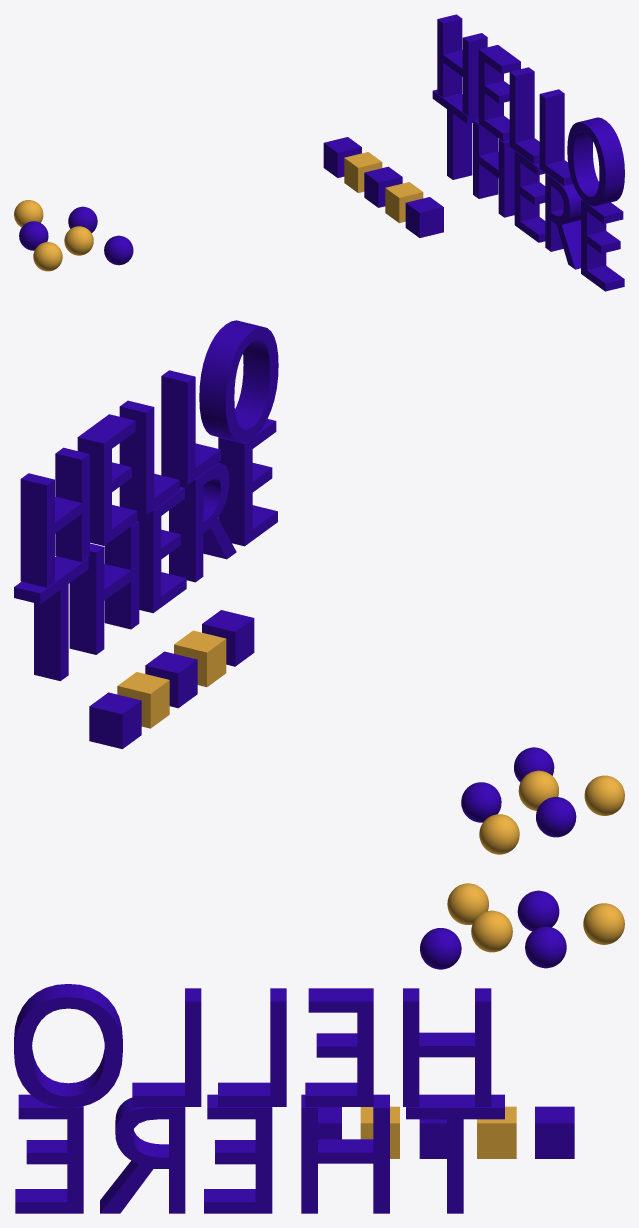
The model's file is hello.glb.
3 views of the same model, one above another, from view 1: azimuth 30°, elevation 25°; view 2: azimuth 150°, elevation 25°; view 3: azimuth 270°, elevation 25° (orthographic). The views are drawn at different scales.
Parts seen in each view (by area): view 1: Hello.004, Hello, Hello.006, Hello.009, Hello.001, Hello.008, Hello.003, Hello.002, Hello.007, Hello.005, Cube.003, Cube.002 (+9 smaller); view 2: Hello.004, Hello, Hello.006, Hello.008, Hello.001, Hello.009, Hello.003, Hello.005, Hello.002, Hello.007, Cube.001, Cube.004 (+9 smaller); view 3: Hello.004, Hello.008, Hello.001, Hello, Hello.006, Hello.009, Hello.007, Hello.005, Hello.003, Hello.002, Cube.001, Cube (+9 smaller).
Boxes of the visible parts, left/top/right/bottom form: Hello.004: left=567, top=117, right=624, bottom=206; Hello: left=437, top=14, right=487, bottom=116; Hello.006: left=473, top=119, right=514, bottom=217; Hello.009: left=581, top=199, right=624, bottom=291; Hello.001: left=478, top=45, right=520, bottom=141; Hello.008: left=545, top=173, right=581, bottom=269; Hello.003: left=539, top=89, right=572, bottom=185; Hello.002: left=509, top=67, right=539, bottom=163; Hello.007: left=514, top=150, right=545, bottom=242; Hello.005: left=432, top=89, right=478, bottom=179; Cube.003: left=405, top=197, right=443, bottom=237; Cube.002: left=364, top=166, right=402, bottom=207; Hello.004: left=199, top=320, right=278, bottom=442; Hello: left=20, top=447, right=89, bottom=587; Hello.006: left=69, top=521, right=139, bottom=654; Hello.008: left=169, top=463, right=236, bottom=582; Hello.001: left=77, top=414, right=137, bottom=545; Hello.009: left=218, top=419, right=277, bottom=546; Hello.003: left=161, top=370, right=220, bottom=484; Hello.005: left=14, top=556, right=88, bottom=681; Hello.002: left=119, top=400, right=179, bottom=514; Hello.007: left=137, top=487, right=186, bottom=613; Cube.001: left=89, top=692, right=141, bottom=749; Cube.004: left=174, top=630, right=226, bottom=687; Hello.004: left=14, top=984, right=122, bottom=1107; Hello.008: left=100, top=1097, right=185, bottom=1213; Hello.001: left=305, top=988, right=373, bottom=1106; Hello: left=403, top=988, right=491, bottom=1106; Hello.006: left=301, top=1094, right=389, bottom=1213; Hello.009: left=15, top=1094, right=83, bottom=1213; Hello.007: left=204, top=1094, right=272, bottom=1213; Hello.005: left=406, top=1094, right=504, bottom=1213; Hello.003: left=132, top=988, right=201, bottom=1106; Hello.002: left=218, top=988, right=286, bottom=1106; Cube.001: left=535, top=1106, right=574, bottom=1158; Cube: left=477, top=1106, right=516, bottom=1158.
Bounding box in the file's own units: 7.43 × 2.53 × 6.46.
